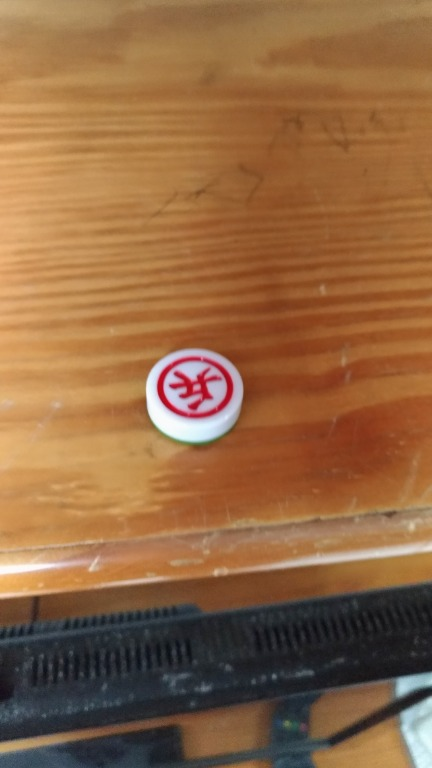r-pawn: (135, 334, 258, 453)
